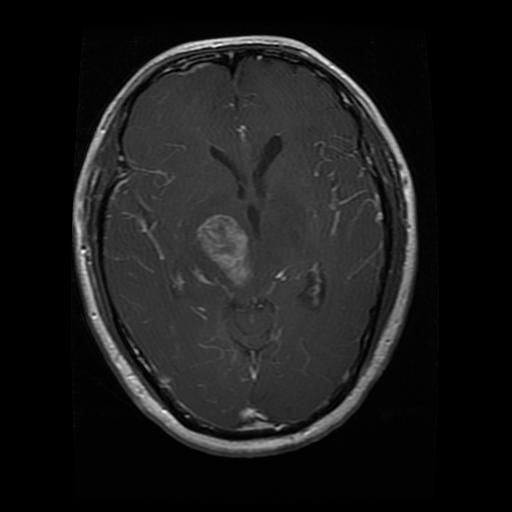Gliomia_tumour: (188, 212, 256, 292)
